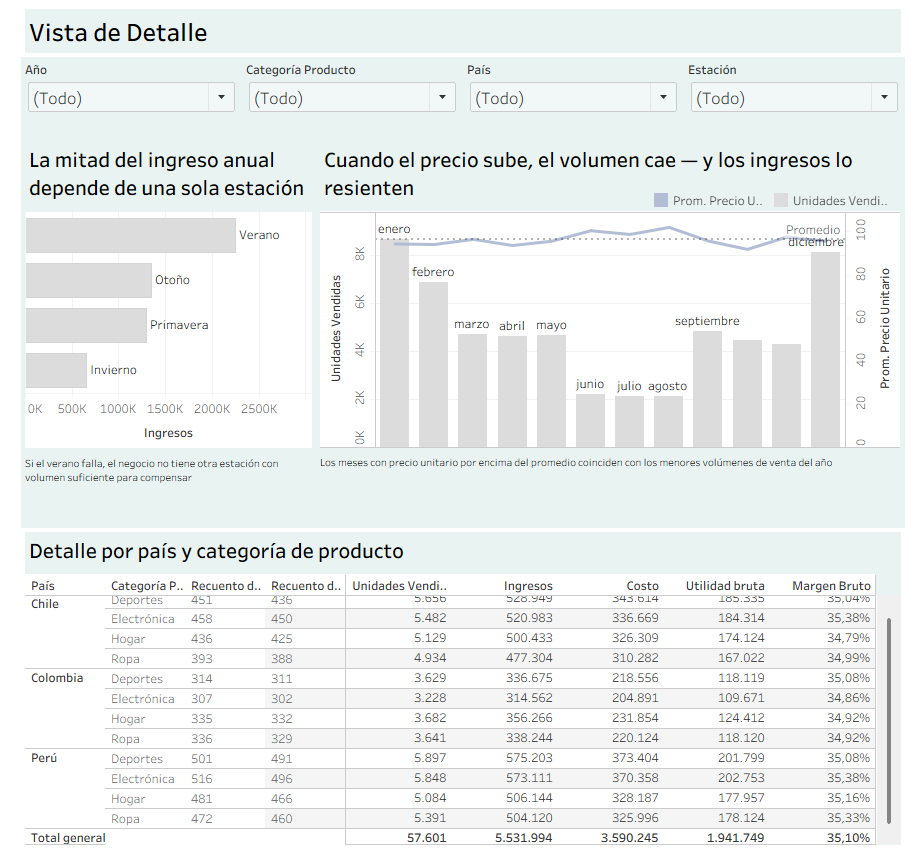

This screenshot's page, from the dashboard's own definition file:
{"tool":"tableau","page":{"name":"Detalle F","canvas":[1000,1000],"units":"permille","ordinal":0},"visuals":[{"type":"text","box":[8.9,9.9,982.2,60.7]},{"type":"filter","title":"Gr Estacional","param":"[federated.0886e9i09pgkn016tdz4d1e77o5y].[yr:Fecha_Pedido:ok]","box":[8.9,70.6,245.6,99.1]},{"type":"filter","title":"Gr Precio Und /Und Vendidas ","param":"[federated.0886e9i09pgkn016tdz4d1e77o5y].[none:Categoría_Producto:nk]","box":[254.4,70.6,245.6,99.1]},{"type":"filter","title":"Gr Estacional","param":"[federated.0886e9i09pgkn016tdz4d1e77o5y].[none:País:nk]","box":[500,70.6,245.6,99.1]},{"type":"filter","title":"Gr Estacional","param":"[federated.0886e9i09pgkn016tdz4d1e77o5y].[none:Estación:nk]","box":[745.5,70.6,245.6,99.1]},{"type":"worksheet","title":"Gr Estacional","mark":"Bar","rows":["Estación"],"cols":["Ingresos"],"box":[8.9,169.8,327.8,442.4]},{"type":"worksheet","title":"Gr Precio Und /Und Vendidas ","mark":"Automatic","rows":["Unidades_Vendidas","Precio_Unitario"],"cols":["Fecha_Pedido"],"box":[336.7,169.8,654.4,442.4]},{"type":"worksheet","title":"Tabla","mark":"Automatic","rows":["País","Categoría_Producto","ID_Pedido","ID_Cliente"],"box":[8.9,617.1,982.2,373]}]}

Visuals, with their boxes on the dashboard's canvas, which has no fixed pixel size, in thousandths of its width and height (x1, y1, x2, y2). These are canvas units, not pixel positions in the 913x859 screenshot, which may show the page scaled, cropped or inside an application window:
text: rect(9, 10, 991, 71)
"Gr Estacional" filter: rect(9, 71, 254, 170)
"Gr Precio Und /Und Vendidas " filter: rect(254, 71, 500, 170)
"Gr Estacional" filter: rect(500, 71, 746, 170)
"Gr Estacional" filter: rect(746, 71, 991, 170)
"Gr Estacional" worksheet (Bar marks): rect(9, 170, 337, 612)
"Gr Precio Und /Und Vendidas " worksheet: rect(337, 170, 991, 612)
"Tabla" worksheet: rect(9, 617, 991, 990)
